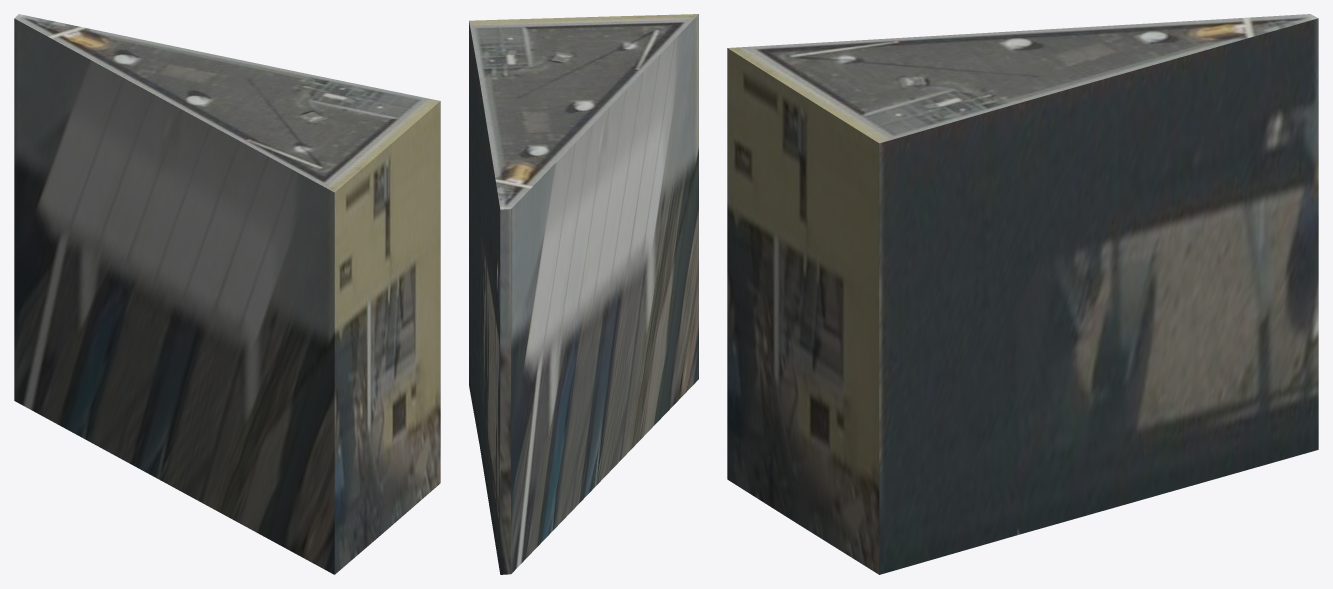
The model's file is {FC3CB476-D9C7-4EC3-BA26-84A6338FEEBF}.gltf.
The picture shows the model from 3 angles, left to right: view 1: azimuth 30°, elevation 25°; view 2: azimuth 150°, elevation 25°; view 3: azimuth 270°, elevation 25°; orthographic projection. The views are drawn at different scales.
Parts seen in each view (by area): view 1: Z_UP; view 2: Z_UP; view 3: Z_UP.
Part boxes in pixels (bbox=[...]): Z_UP: bbox=[14, 14, 440, 574]; Z_UP: bbox=[469, 14, 698, 574]; Z_UP: bbox=[727, 14, 1318, 574].
Size of the model in its own units: 13.28 by 20.65 by 25.63.
Materials: 7 (6 with a texture image).
